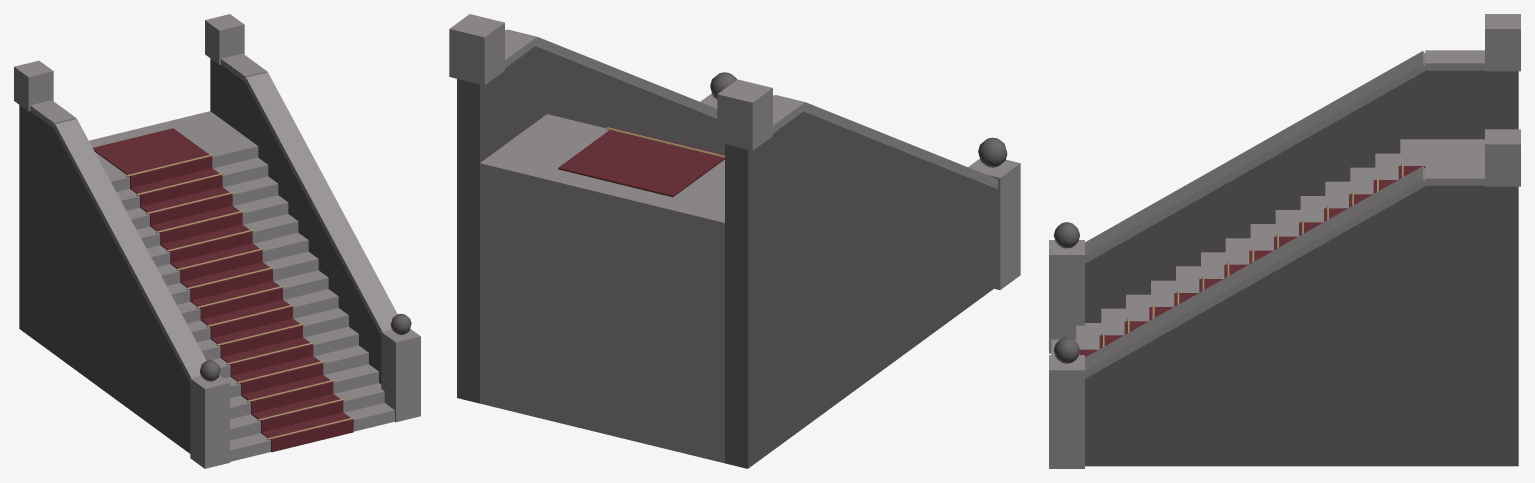
Rendered from staircase.glb.
3 renders of one model, left to right at view 1: azimuth 30°, elevation 25°; view 2: azimuth 150°, elevation 25°; view 3: azimuth 270°, elevation 25°, orthographic. The views are drawn at different scales.
Parts seen in each view (by area): view 1: Staircase; view 2: Staircase; view 3: Staircase.
Part boxes in pixels (<box>): Staircase: <box>14,14,420,468</box>; Staircase: <box>449,14,1020,468</box>; Staircase: <box>1049,14,1520,468</box>.
Bounding box in the file's own units: 3.96 × 4.6 × 6.06.
